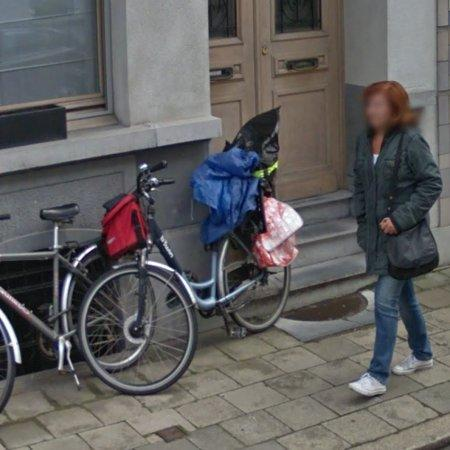bicycles: (75, 162, 291, 395), (0, 204, 118, 411), (91, 269, 154, 374)
